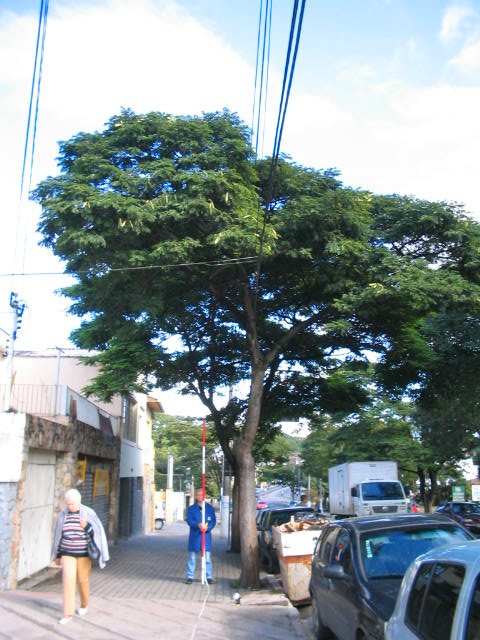crown: (31, 102, 478, 411)
stem: (229, 357, 274, 590)
stick: (194, 418, 209, 583)
tree: (28, 101, 479, 593)
